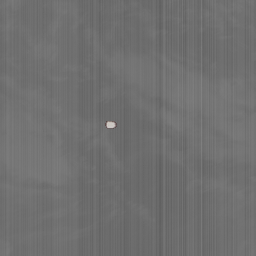Target: (104, 118, 117, 129)
